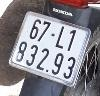1: (65, 28, 79, 53)
2: (35, 46, 53, 72)
3: (61, 54, 78, 80), (24, 42, 41, 67)
6: (27, 17, 45, 41)
7: (36, 19, 54, 44)
8: (13, 39, 31, 64)
9: (49, 51, 67, 76)
L: (54, 24, 72, 50)
